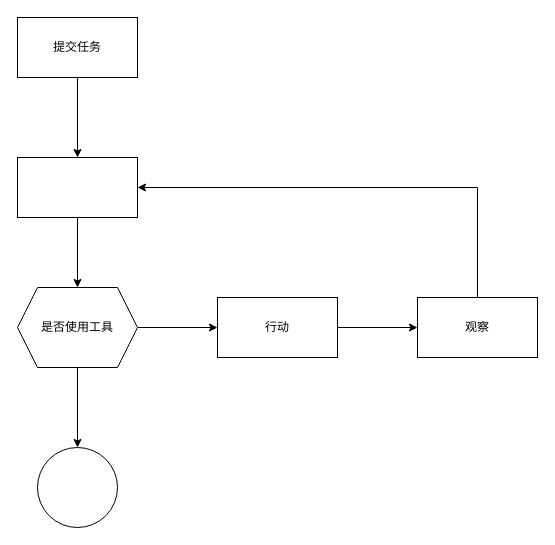
Image size: 555x545. Some labels were removed from this diagram. The centre of each missing label's shape, as x and y in pixels:
思考: pixel 77 187
最终答案: pixel 77 487
